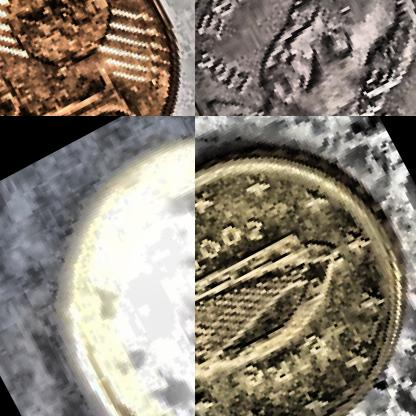coin: (195, 116, 415, 415), (1, 116, 194, 415), (195, 0, 415, 115), (0, 0, 194, 115)
